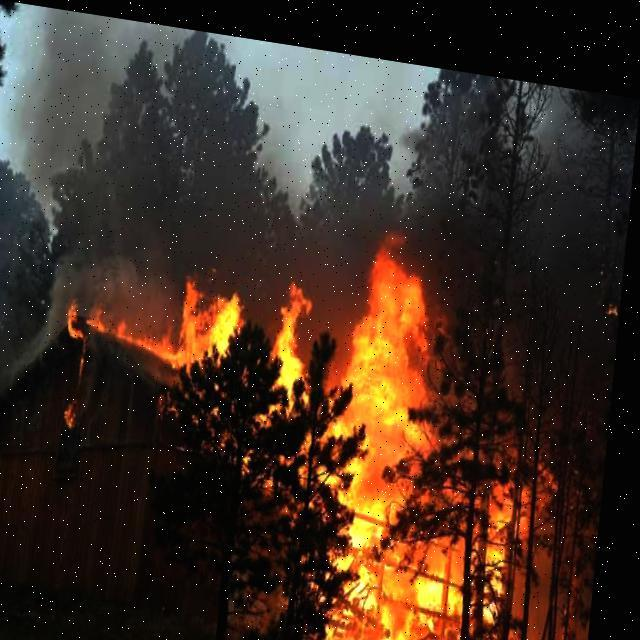Fire: (68, 180, 576, 639)
